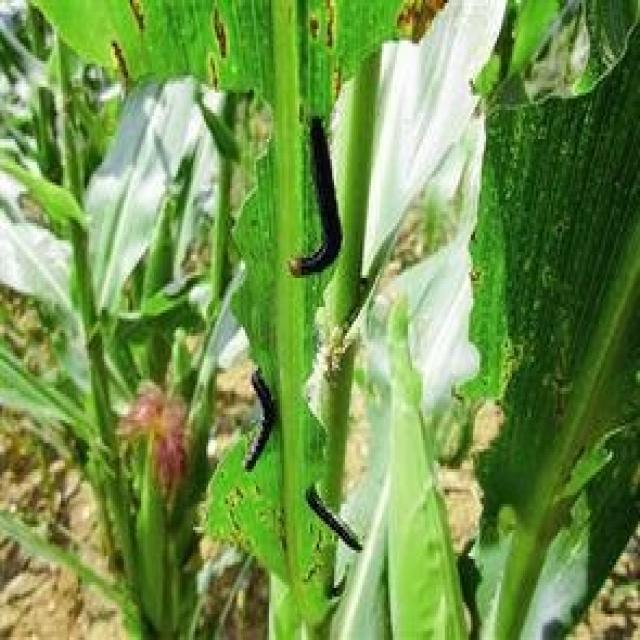army worm: (288, 111, 347, 279), (304, 480, 362, 553), (245, 365, 273, 472)
